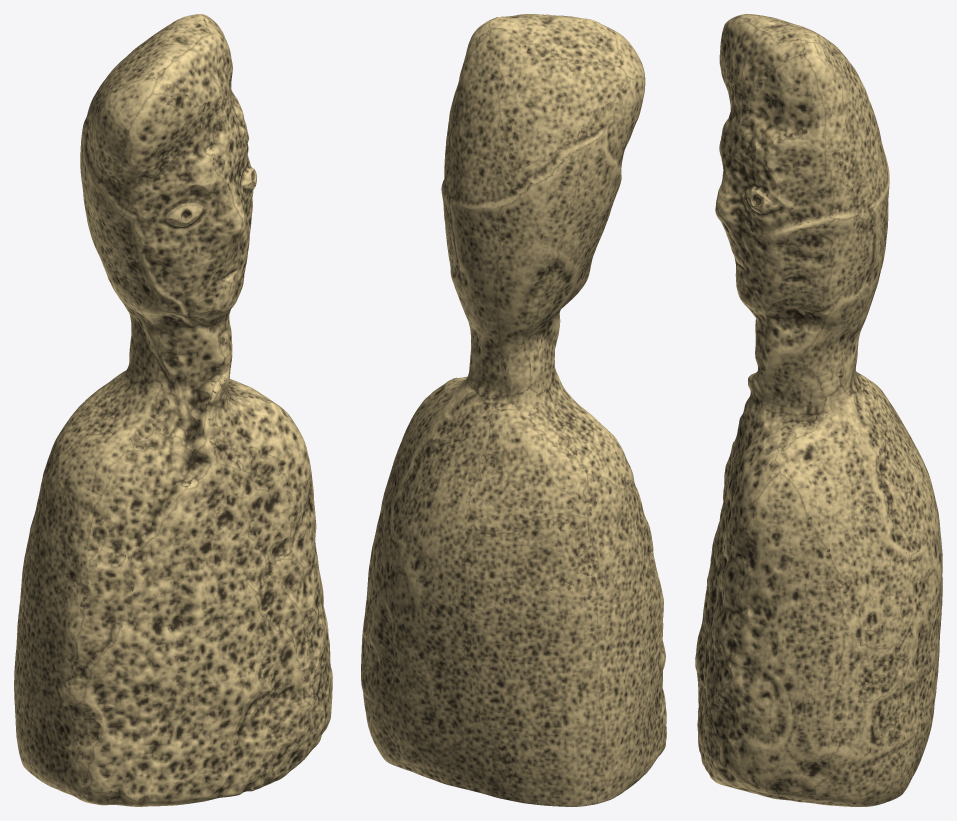
Rendered from head2.glb.
3 views of the same model, side by side, from view 1: azimuth 30°, elevation 25°; view 2: azimuth 150°, elevation 25°; view 3: azimuth 270°, elevation 25° (orthographic).
Visible parts, largest first — view 1: pottery-ossuary-in-israel; view 2: pottery-ossuary-in-israel; view 3: pottery-ossuary-in-israel.
Boxes of the visible parts, x1=… form: pottery-ossuary-in-israel: x1=14, y1=14, x2=332, y2=806; pottery-ossuary-in-israel: x1=361, y1=14, x2=666, y2=806; pottery-ossuary-in-israel: x1=695, y1=14, x2=942, y2=806.
Bounding box in the file's own units: 0.5093 × 1.3 × 0.4015.
1 material, 1 textured.
